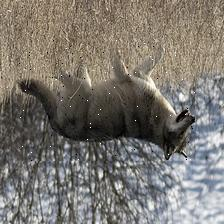WOLF: (18, 39, 194, 160)
